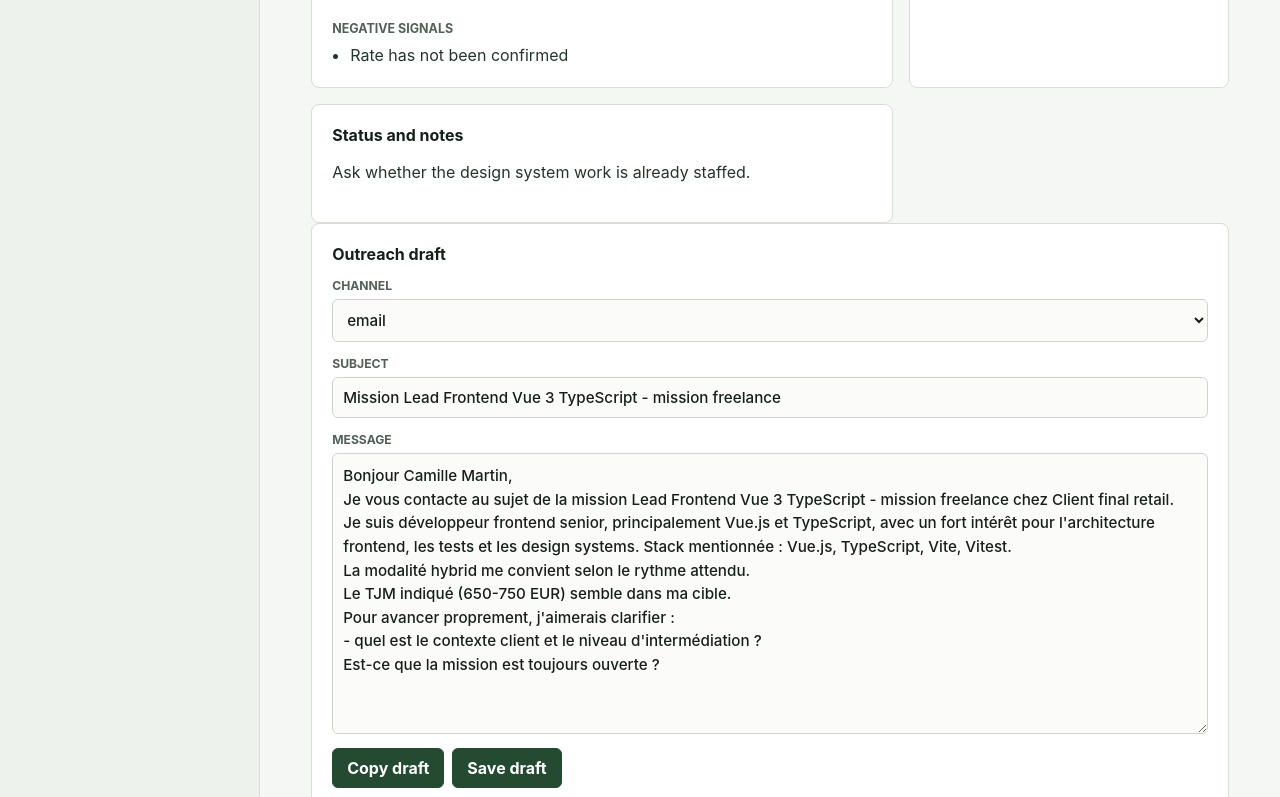
Test: OpportunityDetailPage › copies the edited outreach draft
(page scrolled)
Step 1. Replace the text in the field labelled "Subject" with "Intro mission Vue" → (770,398), box top-left (332, 377), bottom-right (1208, 418)
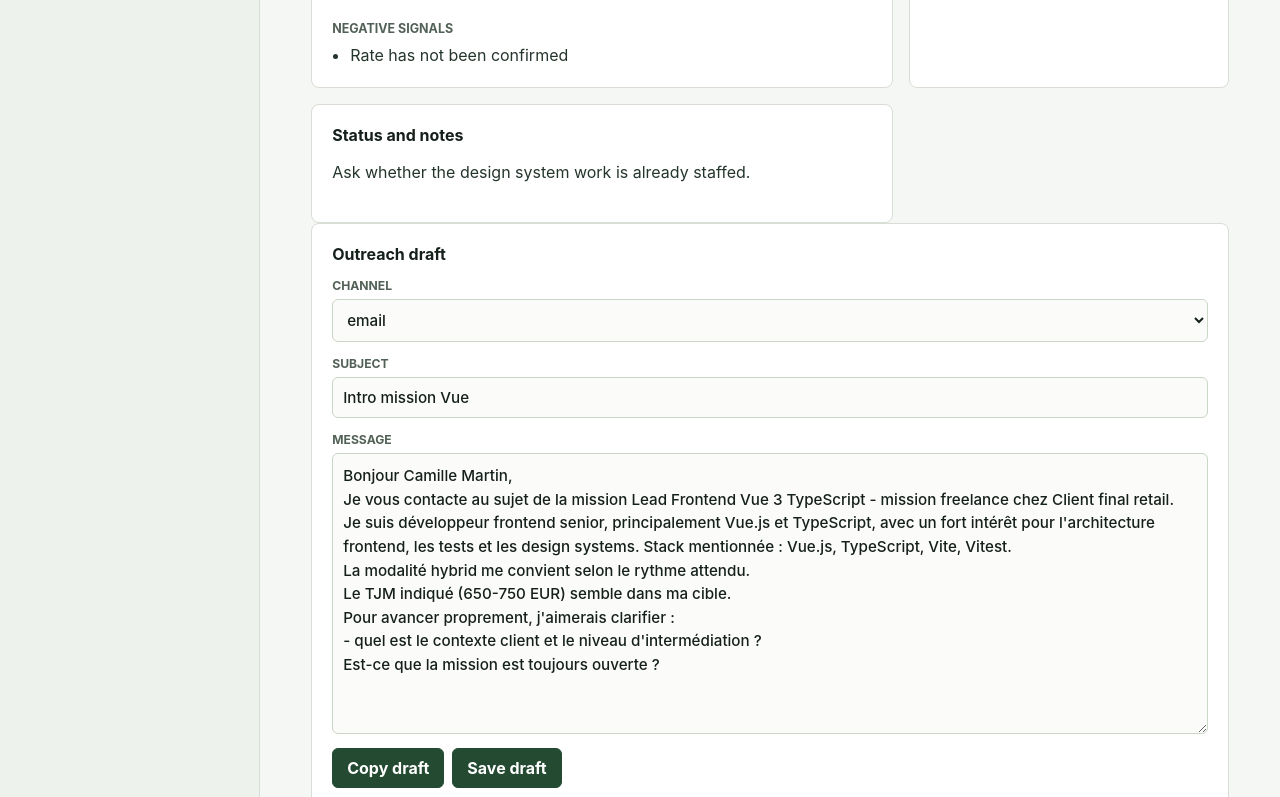
Step 2. Replace the text in the text box labelled "Message" with "Message edited before copy." → (770,594), box top-left (332, 453), bottom-right (1208, 734)
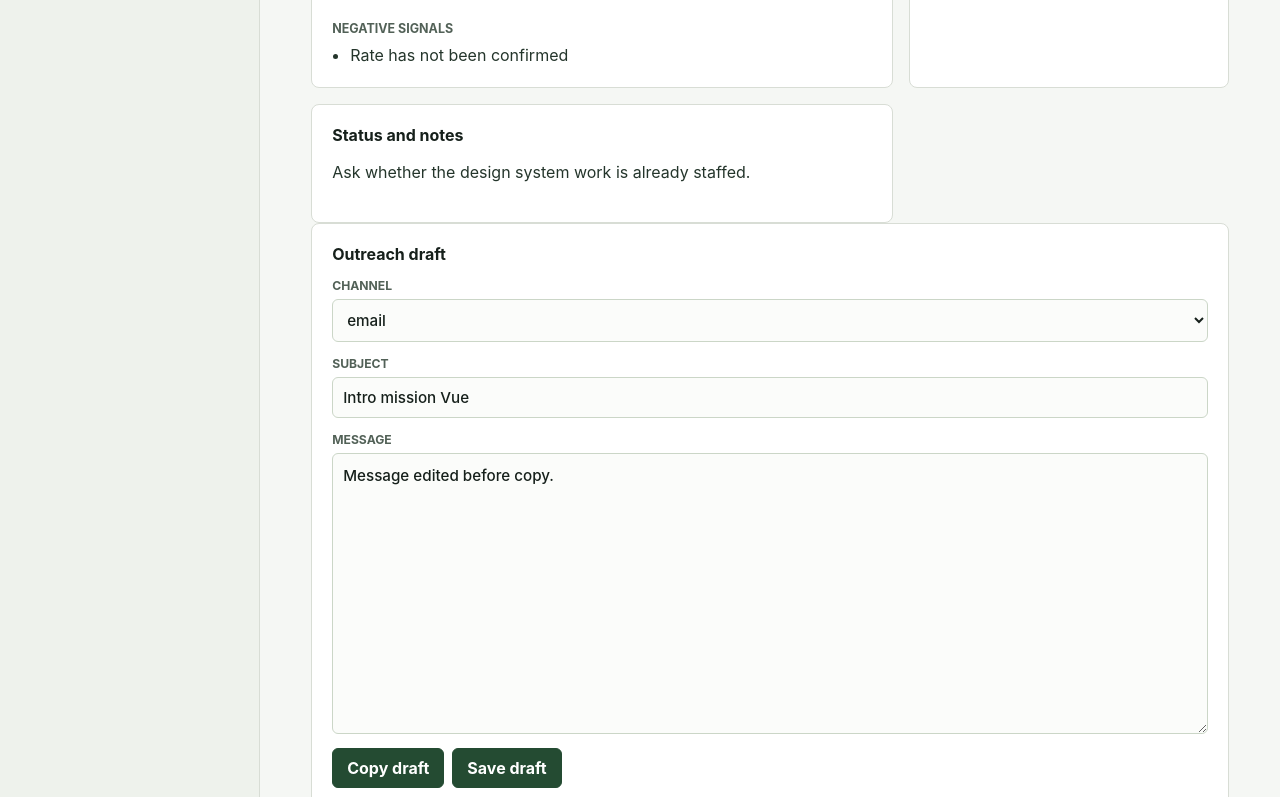
Step 3. Click the button "Copy draft" → (388,768), box top-left (332, 748), bottom-right (444, 788)
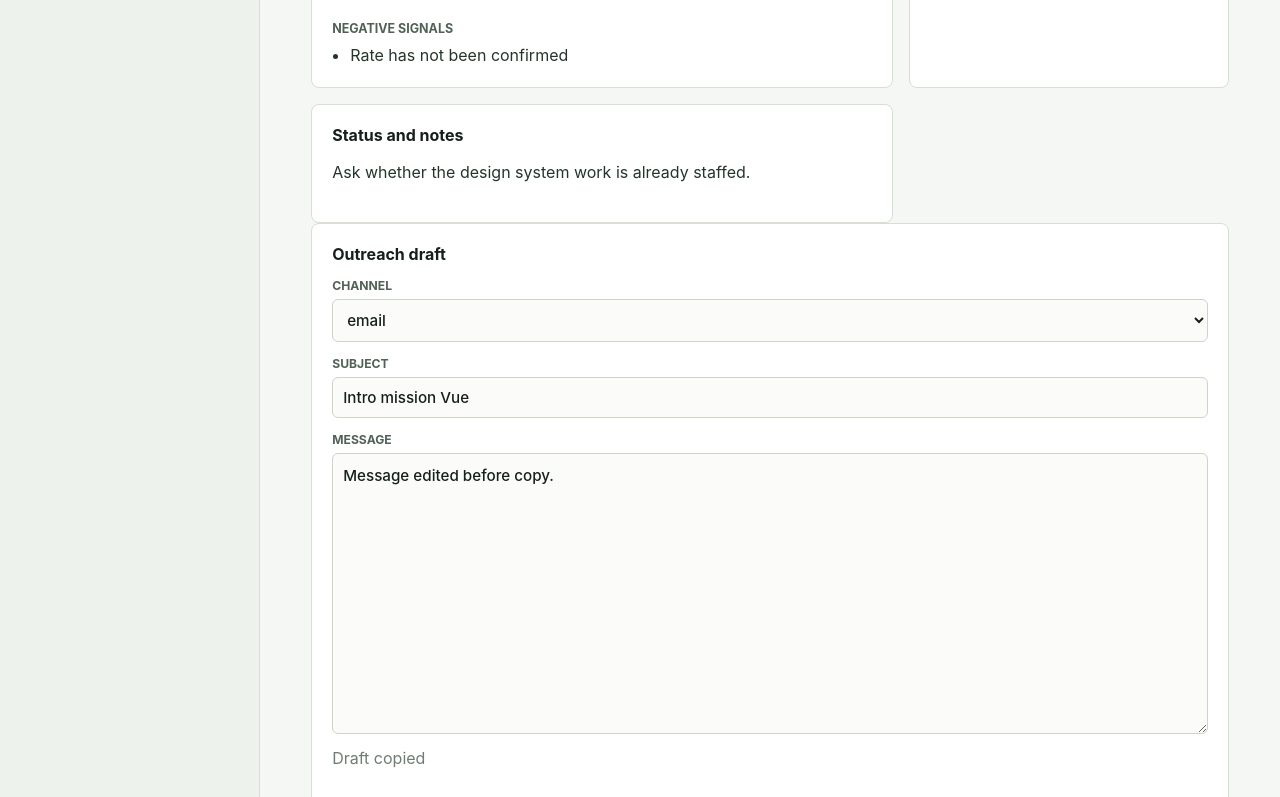
Check: the text "Draft copied" is shown, box top-left (332, 748), bottom-right (425, 768)
